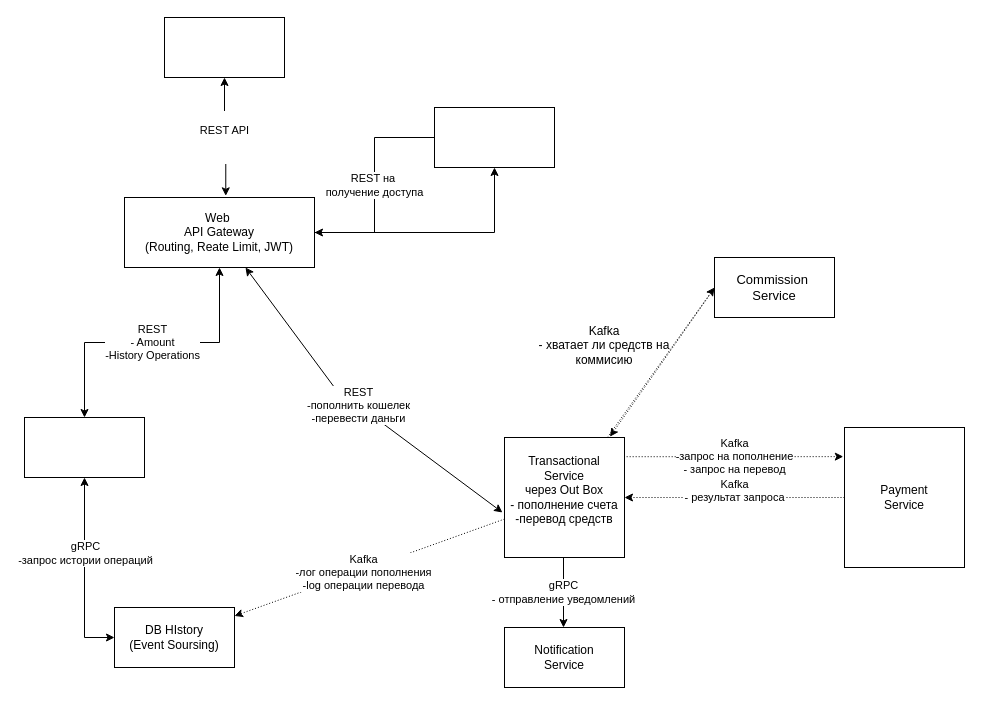
This 982x705 diagram has some shape labels left out. Each missing label, with the centre of its shape:
"JWT/Регистрация" belongs at pixel 494 137.
"UI" belongs at pixel 224 47.
"Личный кабинет(Кошелек)" belongs at pixel 84 447.
